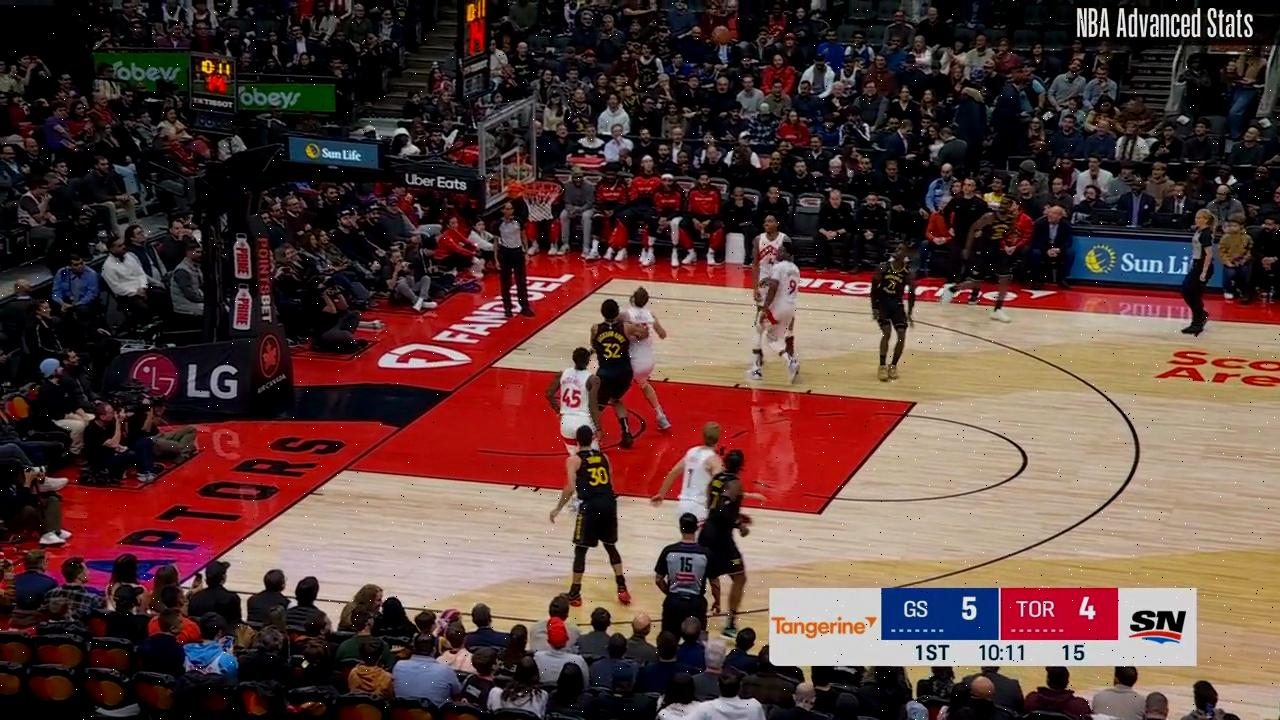basketball: (709, 25, 733, 46)
